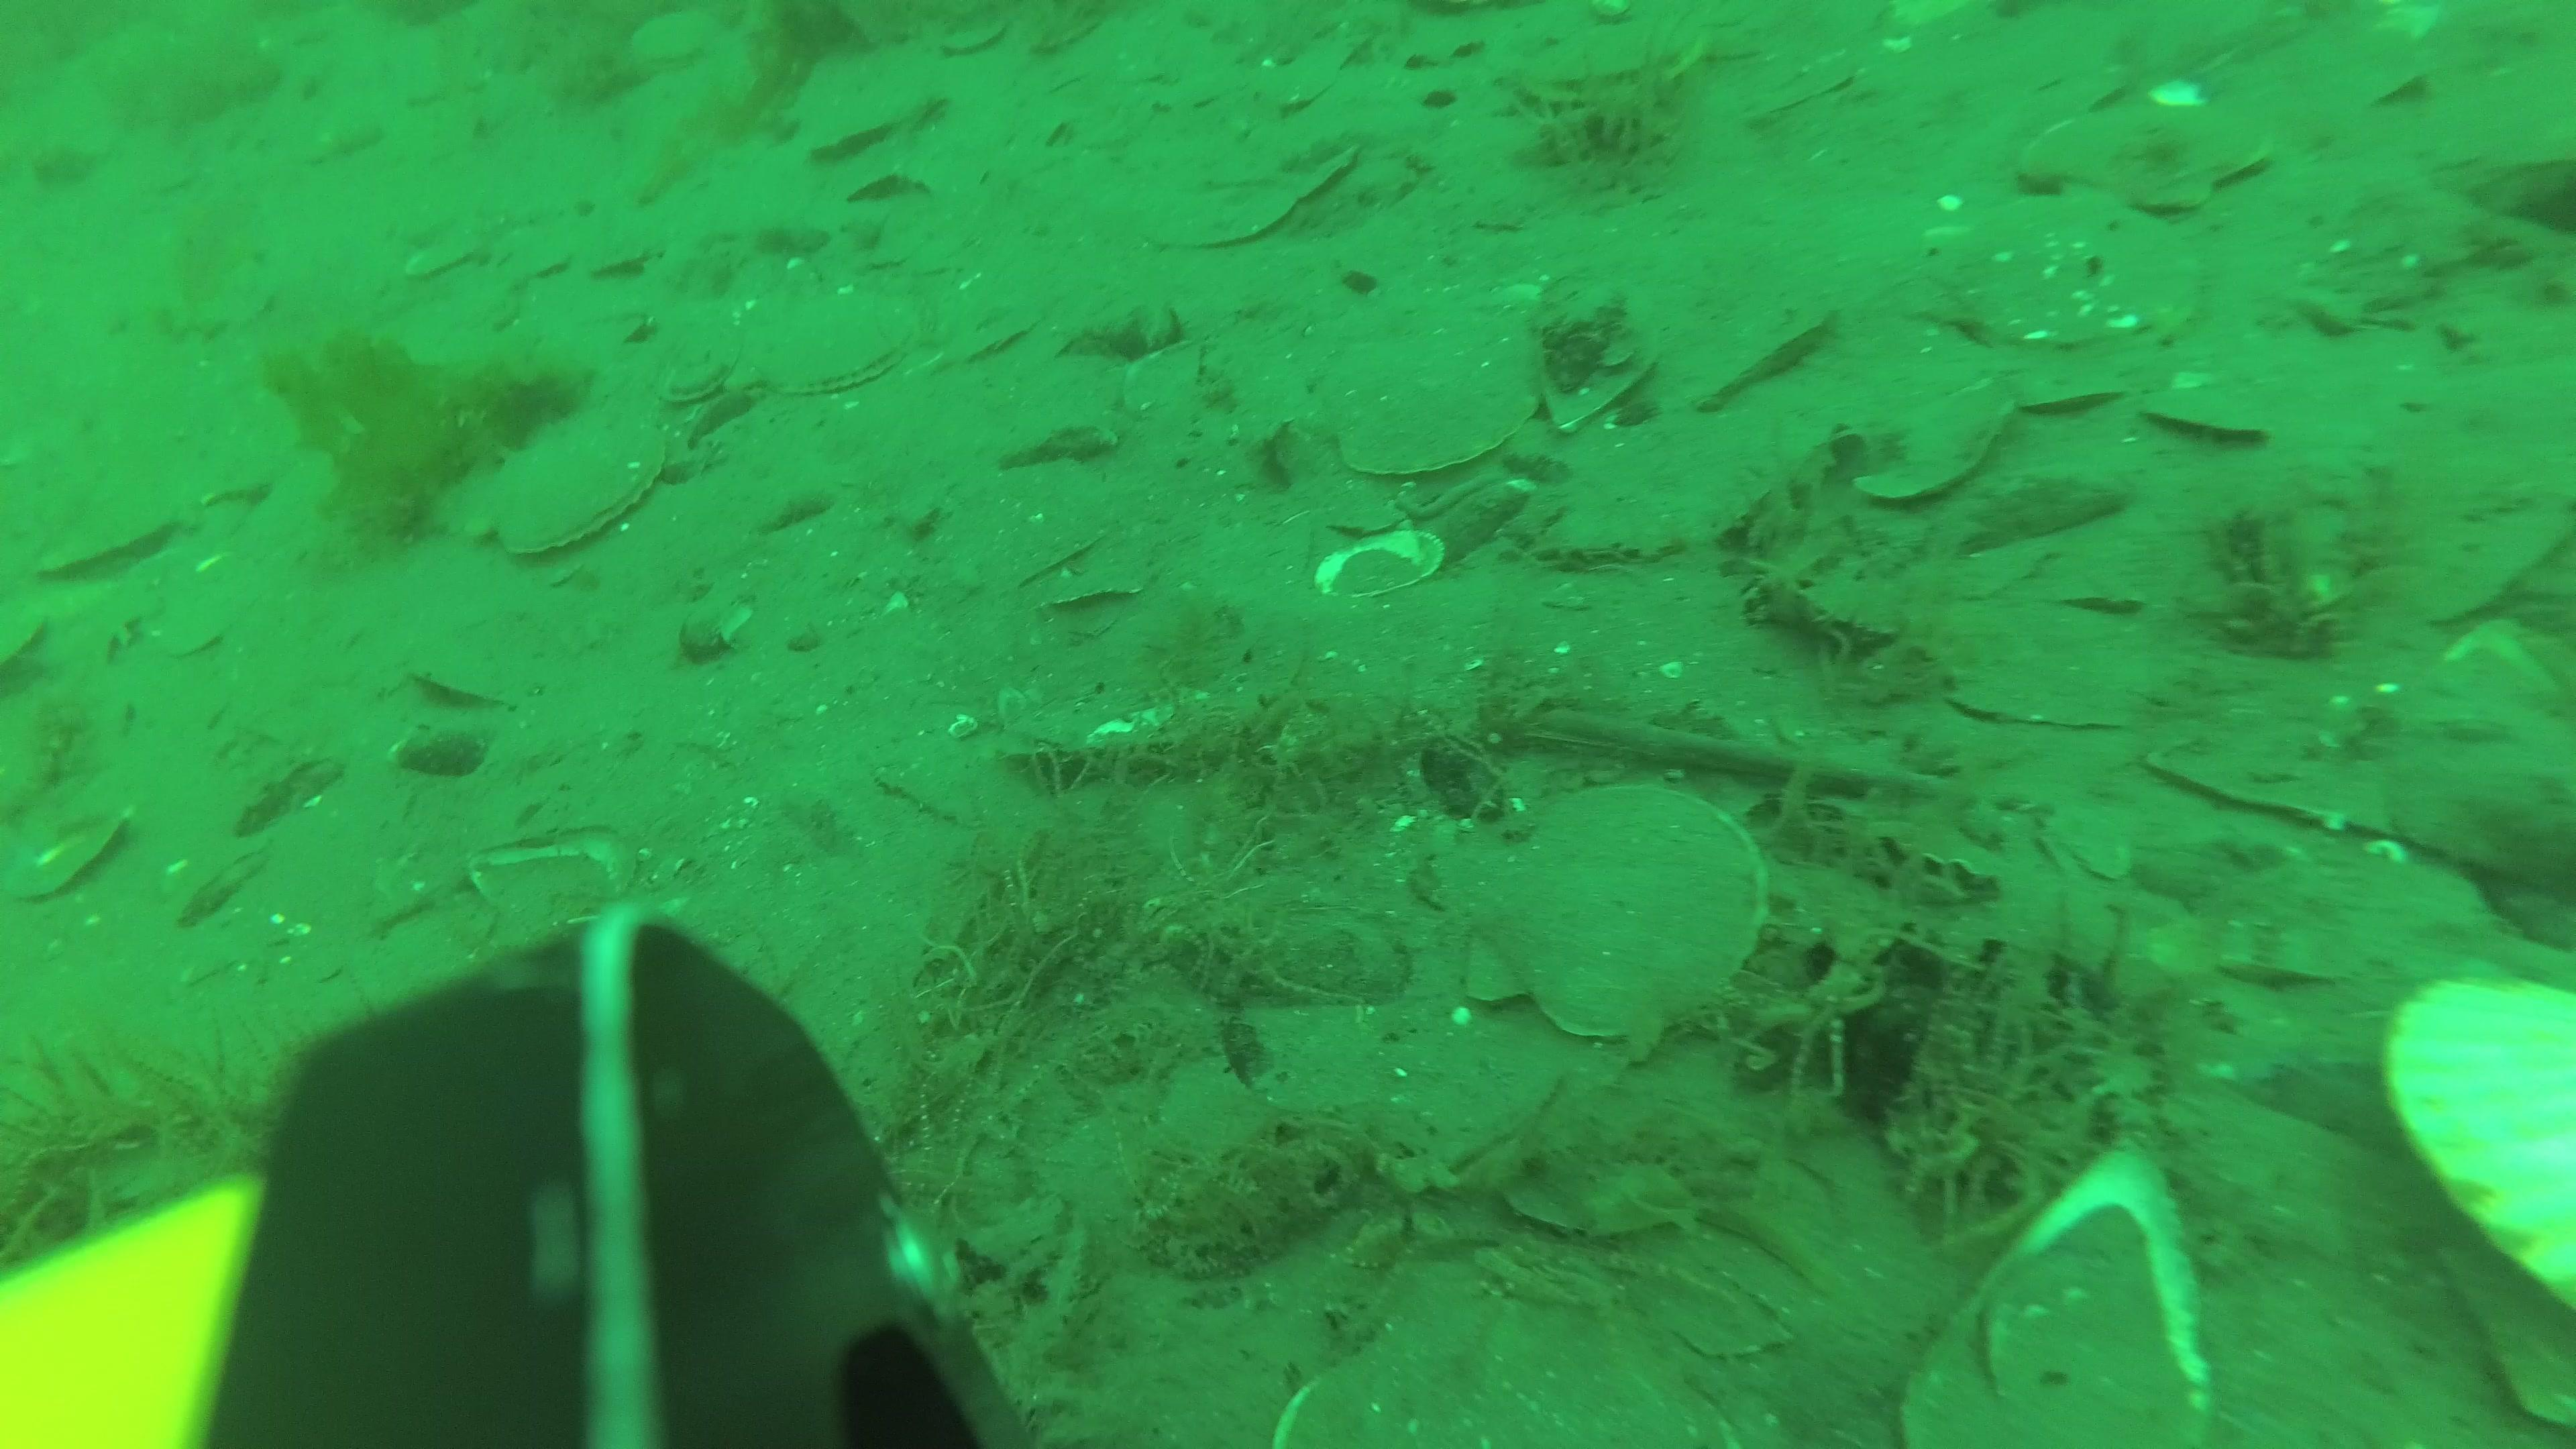scallop: (1442, 768, 1785, 1049), (1948, 175, 2199, 373), (1315, 294, 1537, 476), (2031, 74, 2277, 225), (1635, 283, 1844, 437), (1506, 5, 1723, 136), (474, 426, 674, 566), (1852, 356, 2036, 506), (741, 278, 925, 403), (37, 508, 186, 593), (801, 83, 939, 165), (2148, 380, 2270, 446), (630, 4, 731, 78), (655, 329, 743, 410)
